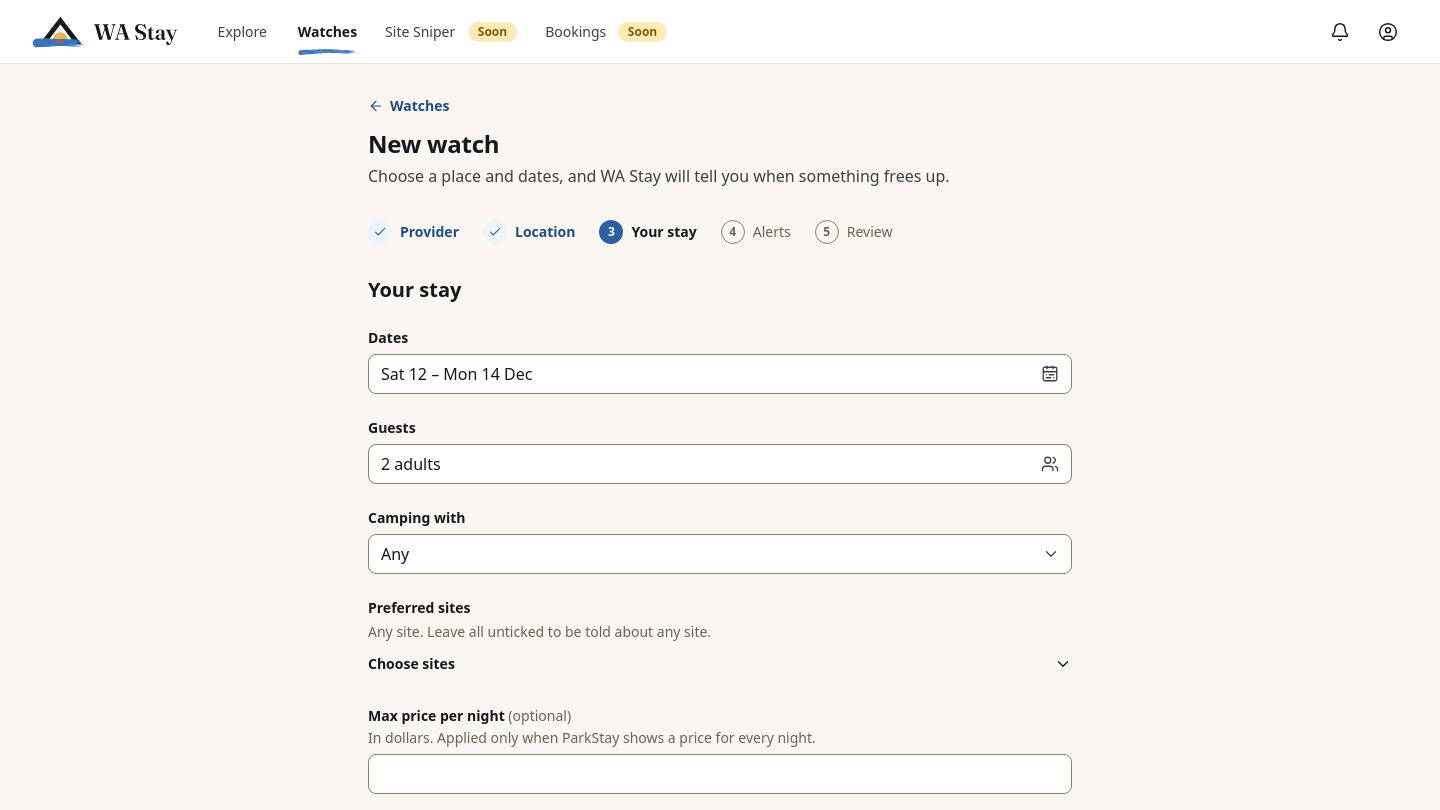
Test: NewWatchPage prefill (§12.10) › names the place from its detail and offers its units on Your stay
The image size is (1440, 810).
Expected: the heading named "Step 3 of 5: Your stay" is shown, [367, 275, 476, 303]
Expected: the text "Preferred sites" is shown, [368, 598, 471, 617]
Click the button "Choose sites" at [411, 664], box [368, 646, 1072, 682]
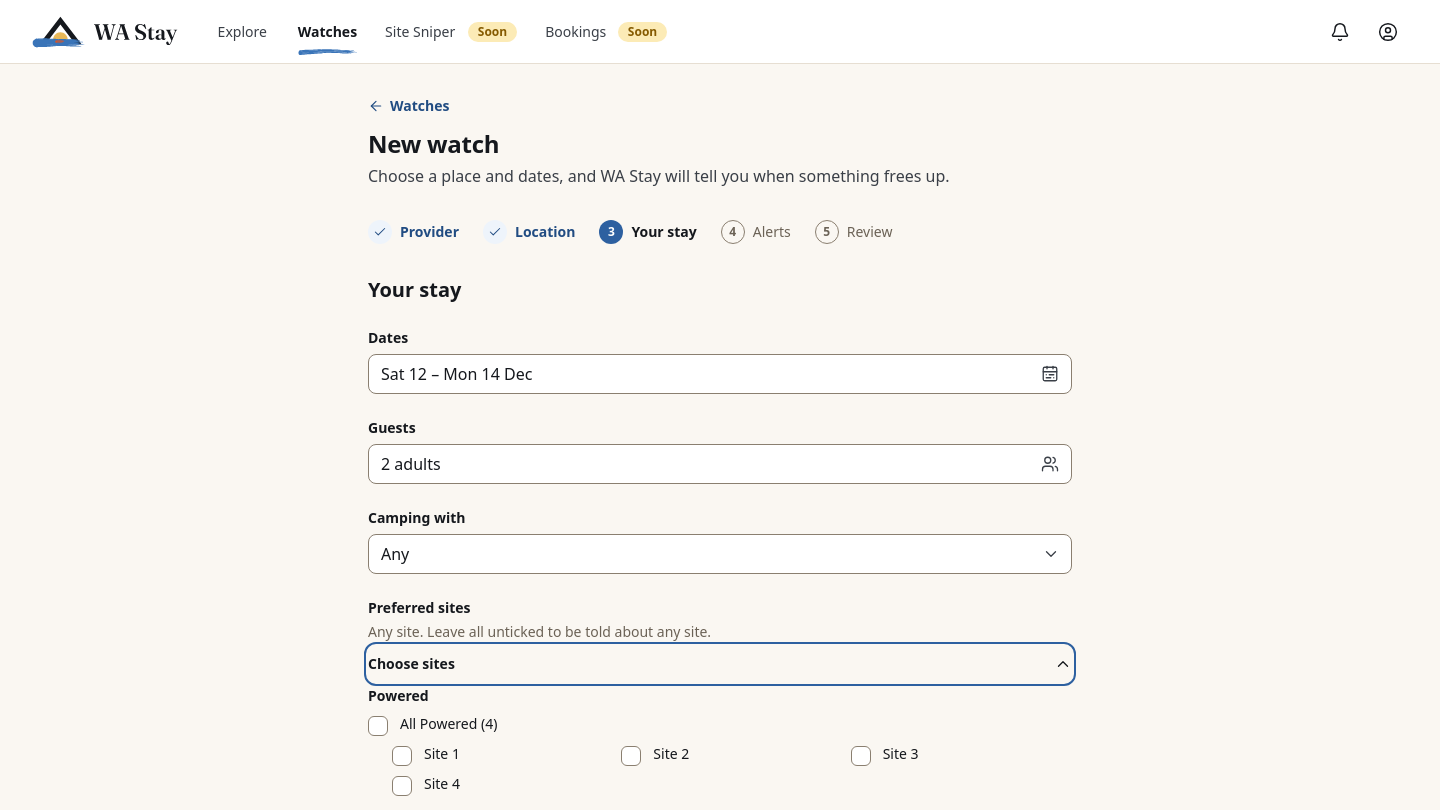
Click the checkbox labelled "All Powered (4)" at [378, 726], box [368, 716, 388, 736]
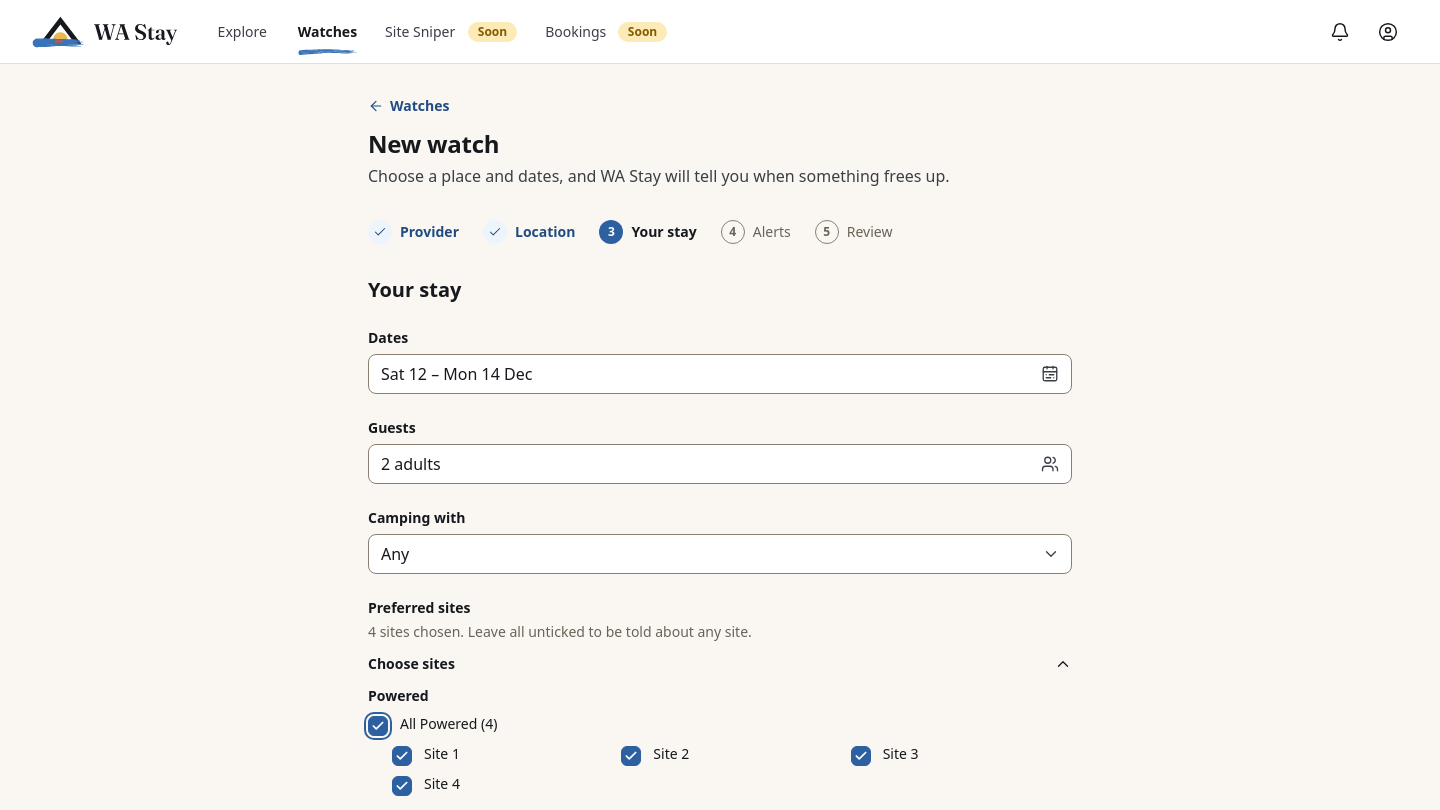
Expected: the text "4 sites chosen" is shown, [368, 622, 460, 641]
